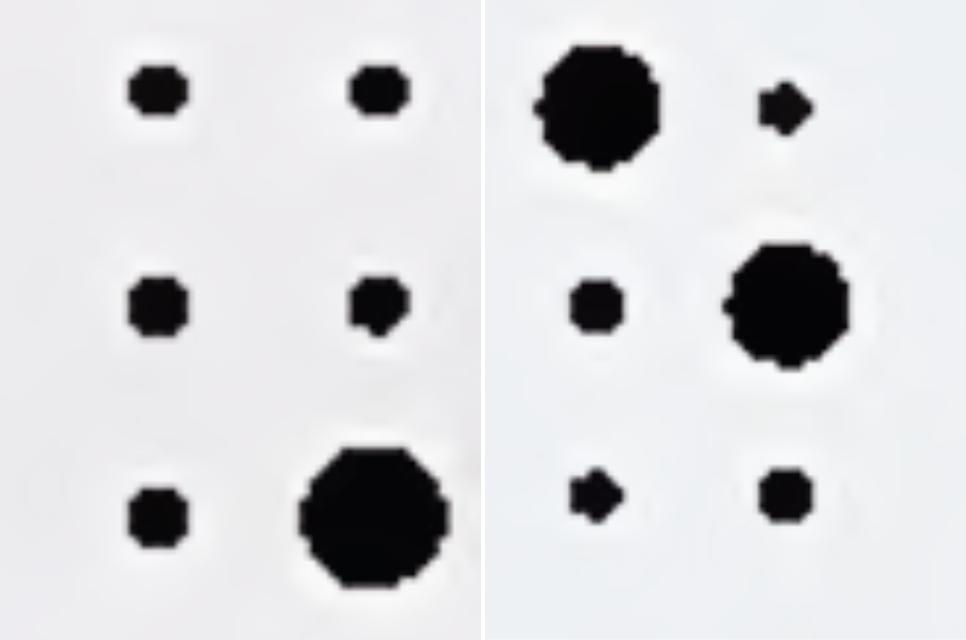E: (539, 43, 852, 523)
capital: (122, 57, 447, 588)
